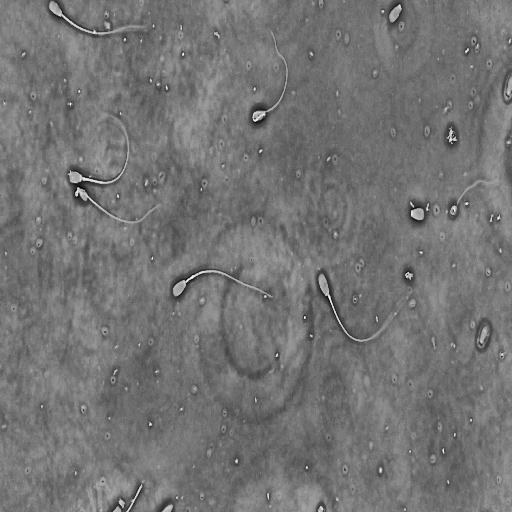coiled-tail: (252, 31, 288, 122), (254, 113, 263, 120)
dirt-particles: (445, 125, 459, 146), (404, 269, 415, 284)
folded-tail: (77, 186, 160, 223)
loose-head: (476, 322, 492, 352), (387, 2, 404, 26), (409, 205, 426, 224)
normal: (315, 269, 412, 347), (67, 108, 130, 188), (46, 0, 155, 41), (250, 27, 290, 125), (171, 266, 276, 302), (75, 185, 164, 227)
